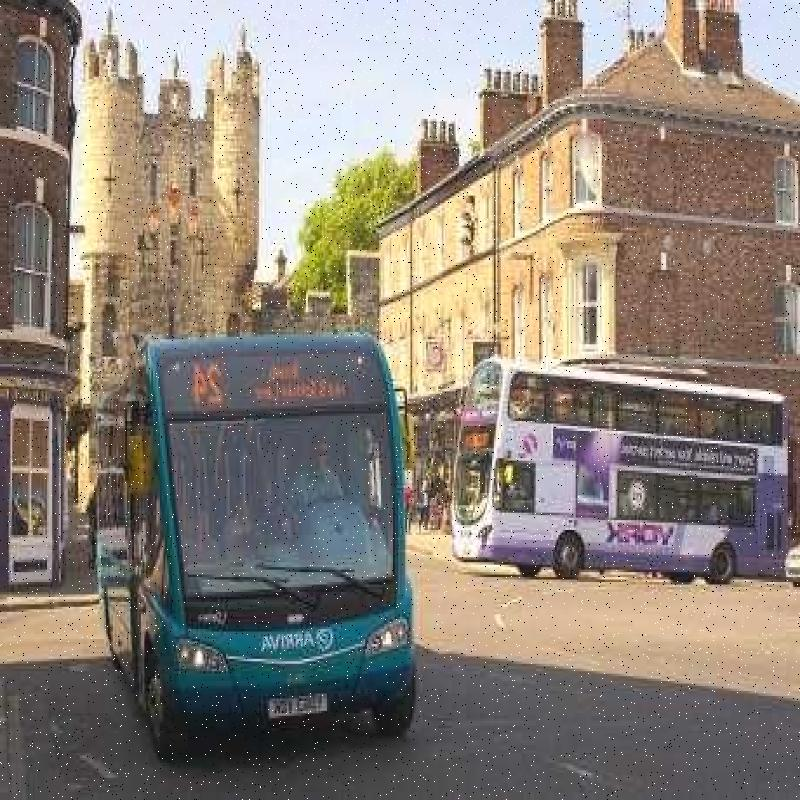bus: (96, 275, 421, 784), (457, 336, 800, 606)
